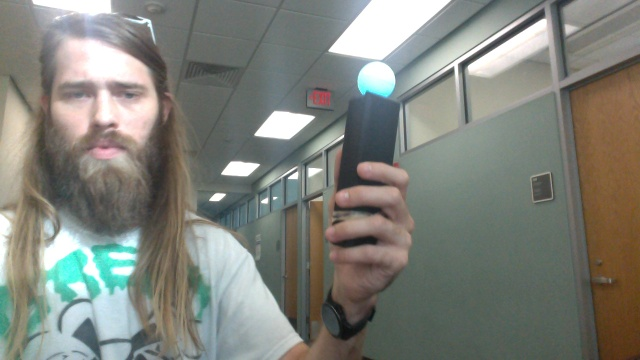wand: (358, 62, 396, 99)
